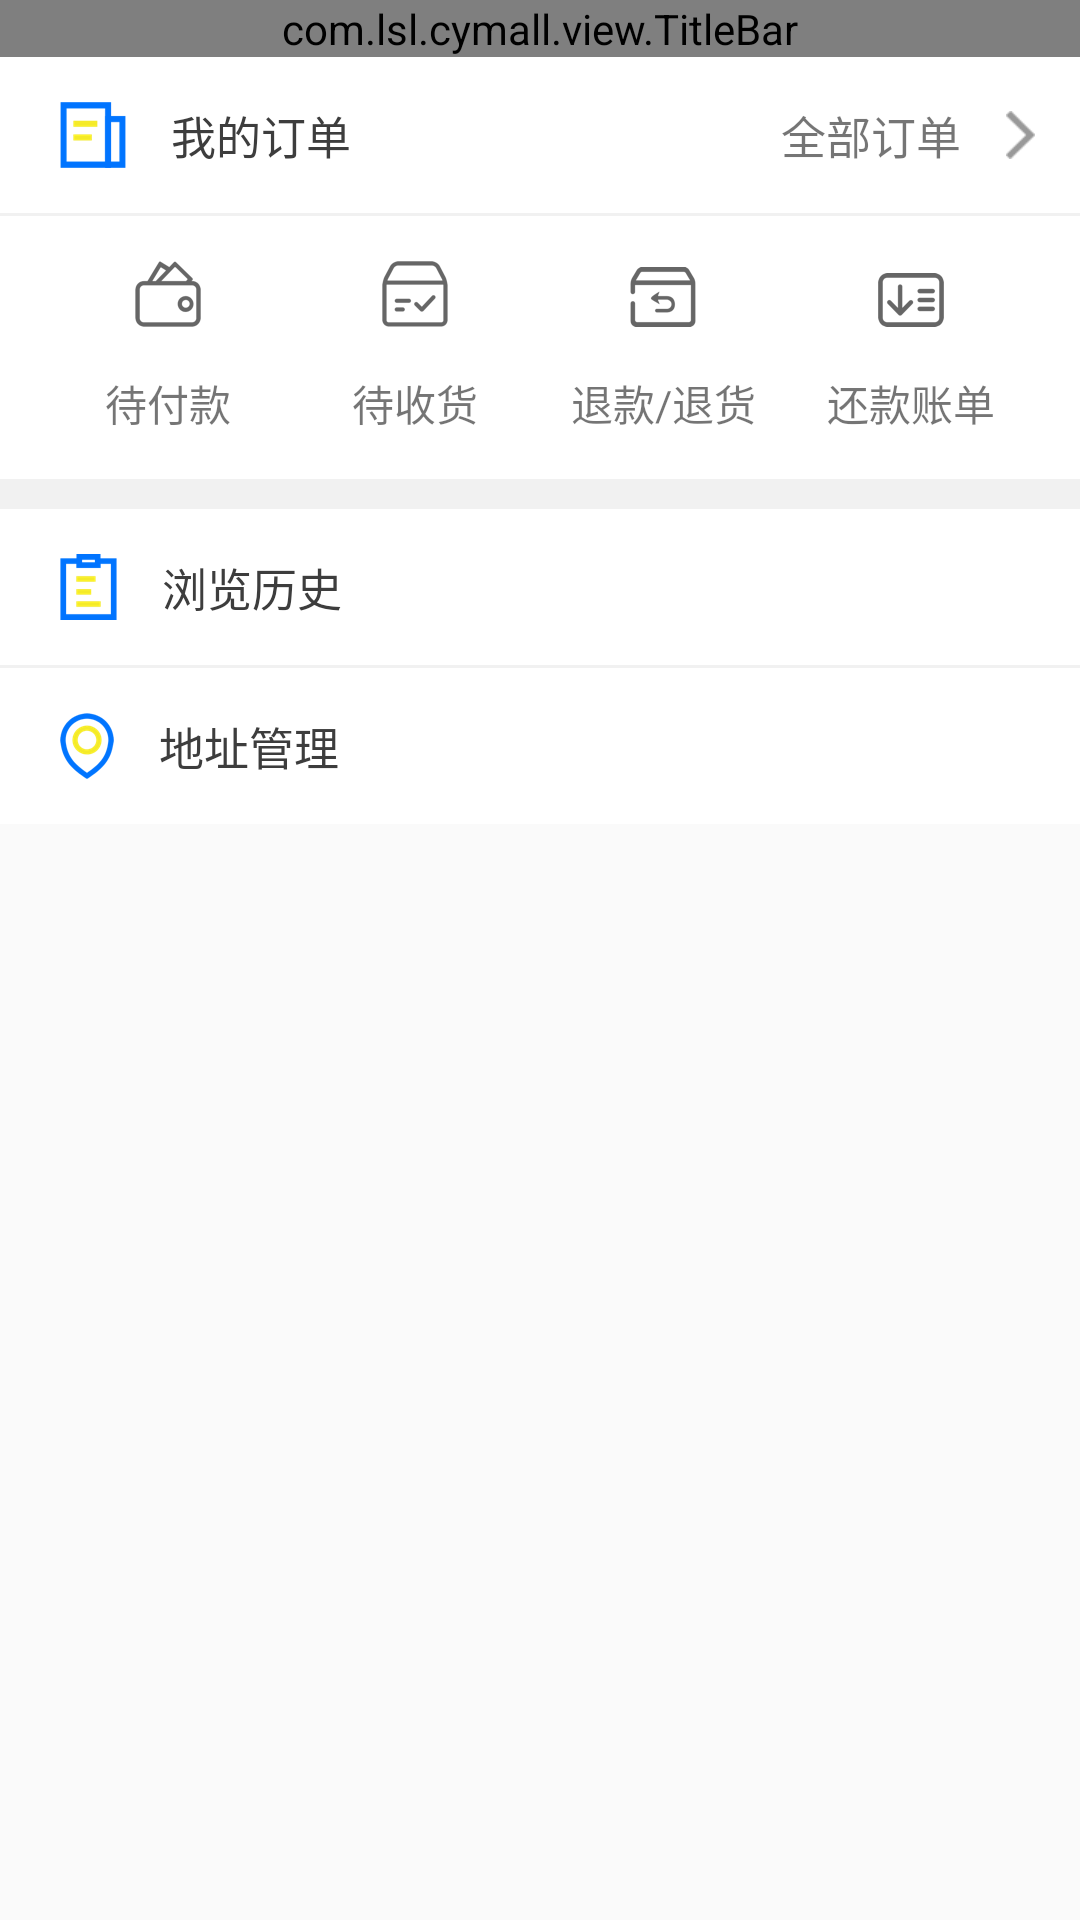

Where icons sit on this 1080 x 1920 app screen, as (x1, y1, x2, y2):
mine browsing history: (60, 554, 117, 620)
mine indent: (60, 102, 126, 168)
mine site: (60, 713, 114, 779)
